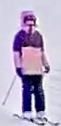skier: (2, 10, 60, 126)
